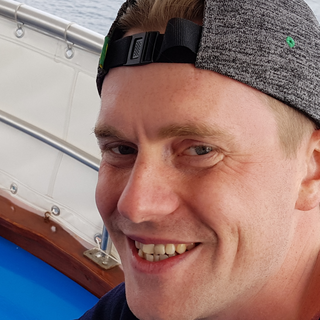eye: (179, 140, 225, 164), (100, 138, 140, 163)
